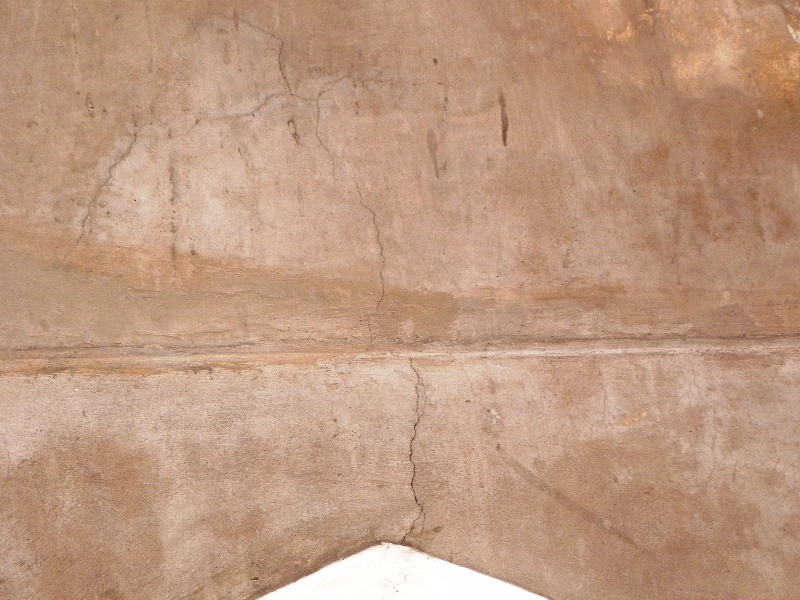Crack: (350, 171, 392, 305), (408, 379, 432, 541)
